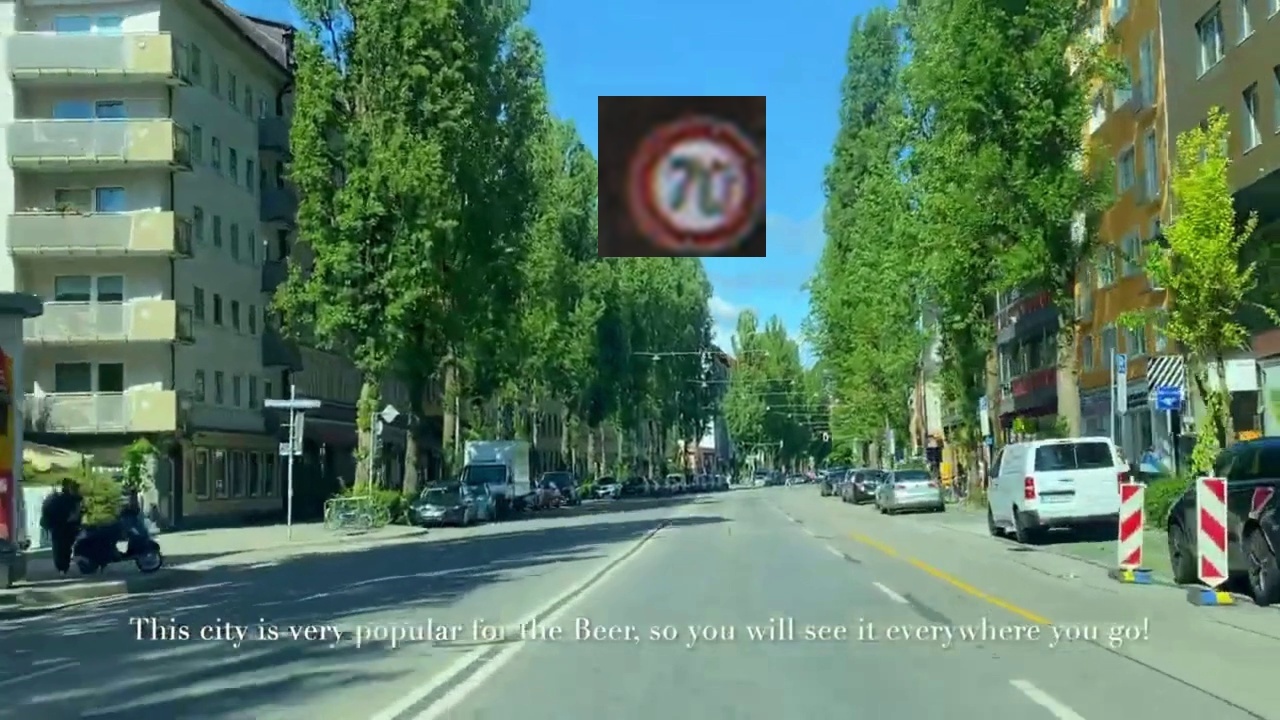Speed 70: (598, 96, 766, 257)
